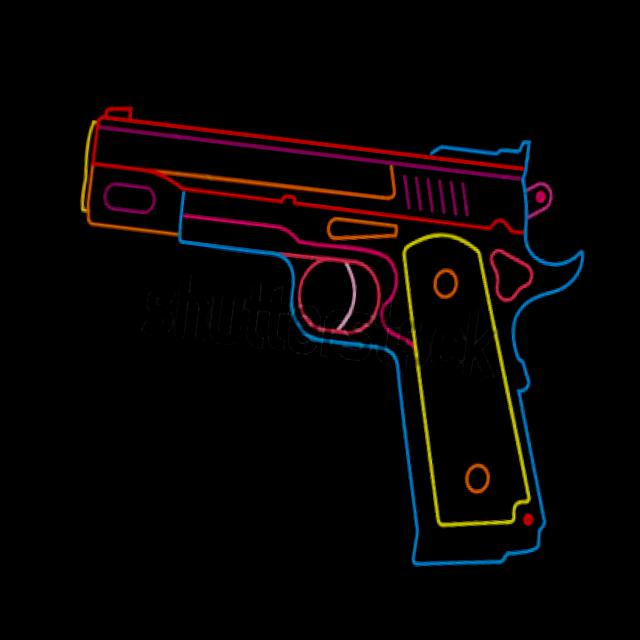handgun: (37, 85, 601, 584)
